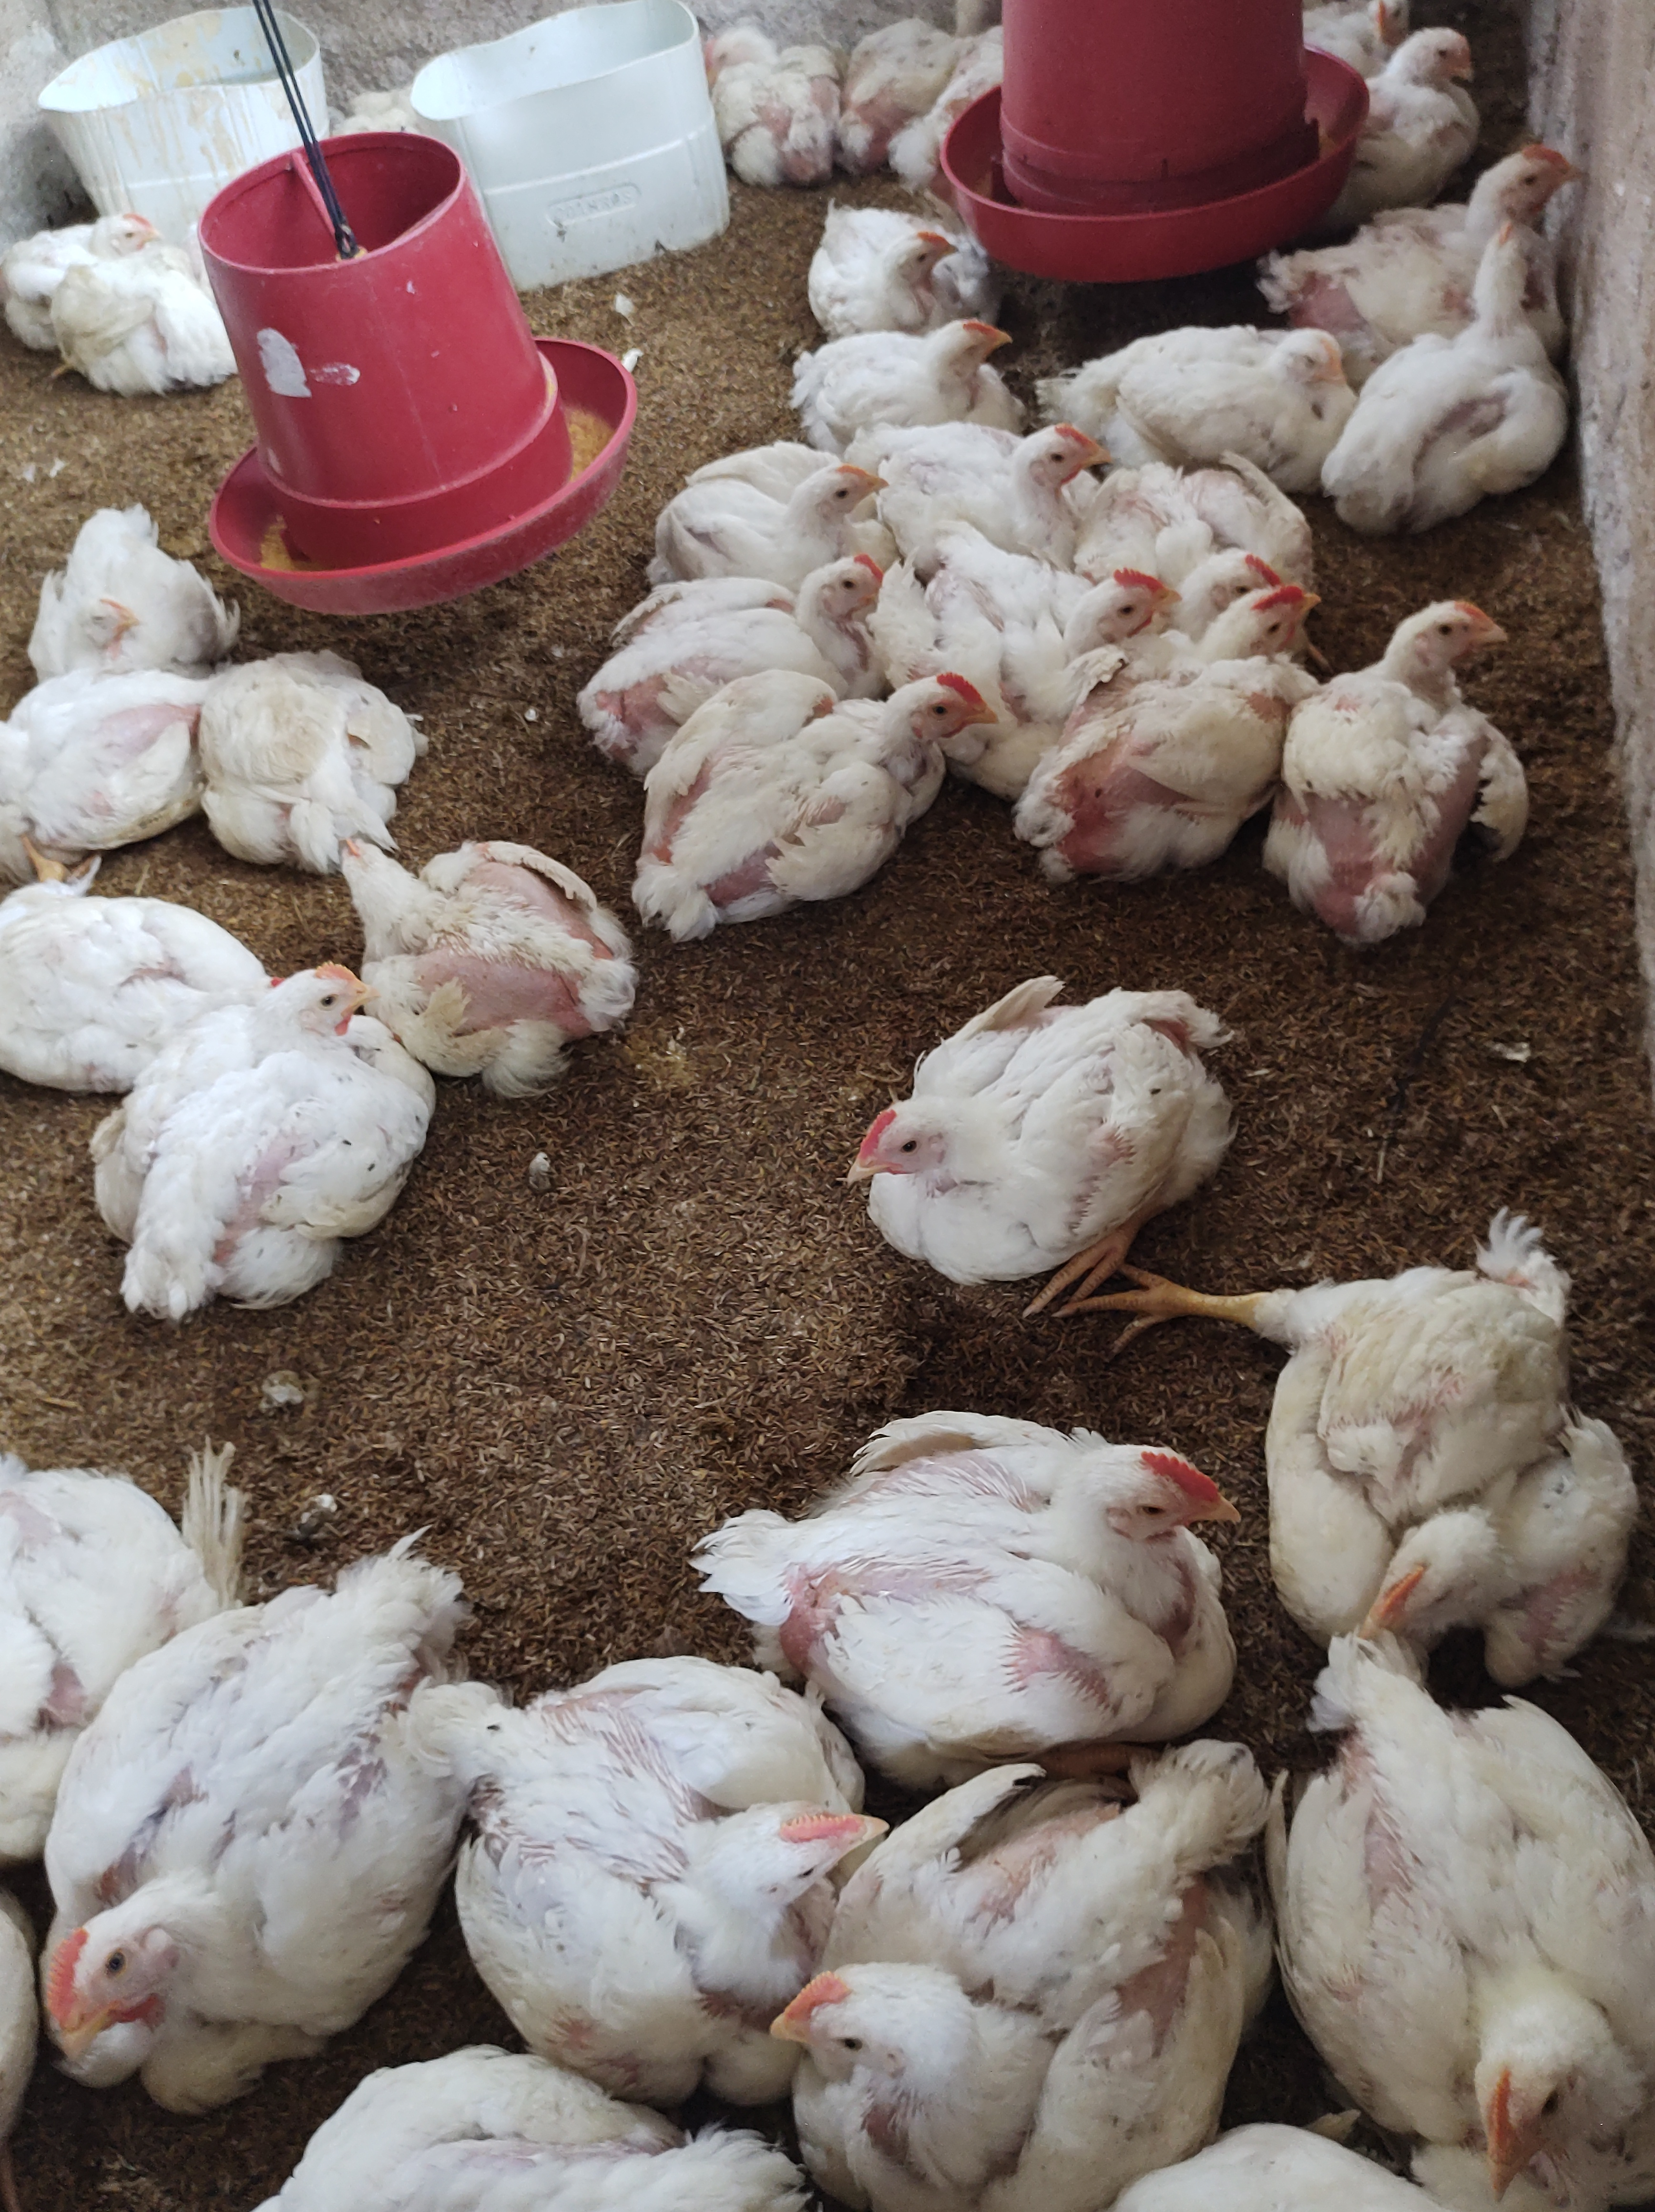Pollos: (45, 1572, 492, 2094), (793, 1789, 1257, 2212), (1288, 1689, 1655, 2188), (1264, 1247, 1624, 1668), (794, 1407, 1245, 1727), (841, 989, 1220, 1315), (482, 1647, 874, 1951), (214, 2028, 829, 2212), (137, 955, 426, 1304), (640, 675, 994, 925), (1304, 588, 1540, 943), (323, 824, 638, 1083), (1342, 219, 1572, 551), (2, 823, 273, 1097), (602, 539, 897, 741), (1033, 666, 1292, 871), (30, 186, 247, 407), (214, 636, 410, 861), (12, 485, 221, 680), (0, 676, 200, 833), (801, 310, 1038, 433), (683, 443, 892, 577), (1189, 306, 1370, 452), (951, 402, 1142, 539), (1459, 117, 1605, 268), (1365, 12, 1490, 184), (701, 16, 834, 174), (808, 214, 967, 334), (1205, 550, 1328, 676), (1066, 560, 1184, 666), (1311, 0, 1424, 73), (1213, 525, 1276, 600)
